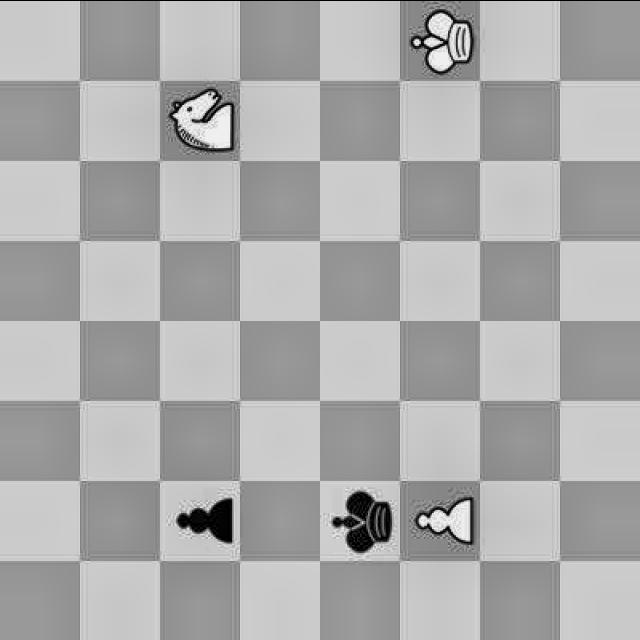black king: (320, 485, 398, 557)
black pawn: (162, 482, 242, 557)
white king: (404, 0, 481, 82)
white pawn: (396, 478, 478, 558)
whiteknight: (162, 80, 240, 158)
